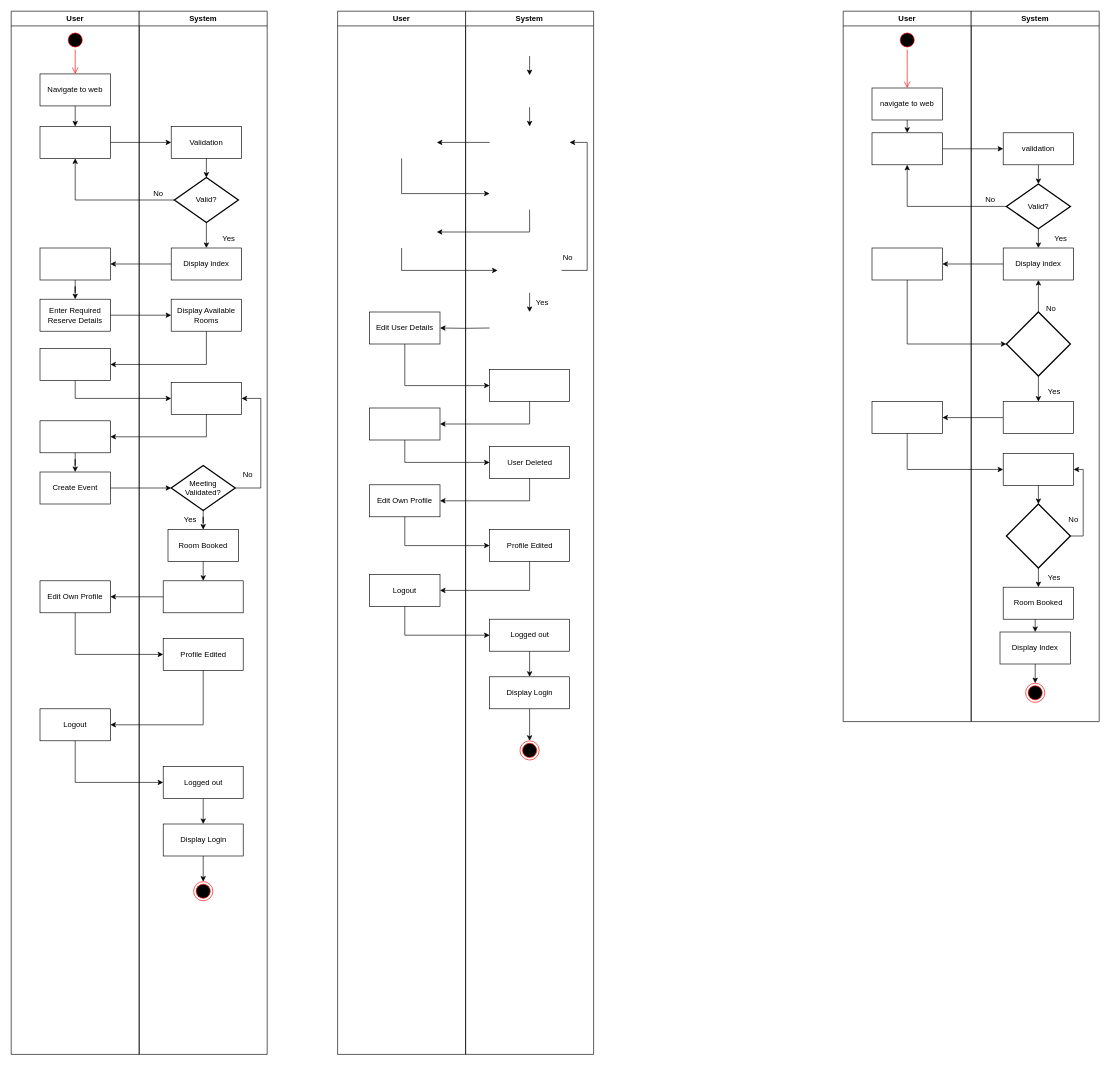
Some shapes in this 1110 by 1066 pixel diagram are drawn without their labels. Here are the shapes that lost their labels. From the top down, the box of each, then its label:
(39, 126, 110, 158): Enter Email and password
(871, 132, 942, 165): Entry Email and password
(39, 247, 110, 280): Reservation
(871, 247, 942, 280): Search Room
(1005, 311, 1071, 376): Find ?
(39, 348, 110, 380): Choose Room
(171, 382, 242, 414): Display Meeting Details Form
(489, 369, 570, 402): User Details Edited
(39, 420, 110, 453): Fill Meeting Details Form
(369, 407, 440, 440): Delete User
(871, 401, 942, 434): Booking Event
(1003, 401, 1074, 434): Display result
(1003, 453, 1074, 485): Display form
(1005, 503, 1071, 568): Room Available?
(163, 580, 243, 613): Display Reservation
